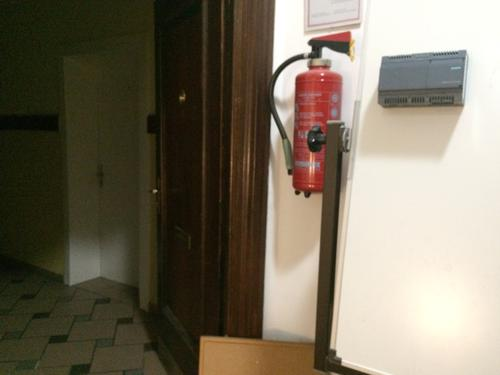iot2000: (377, 50, 470, 110)
